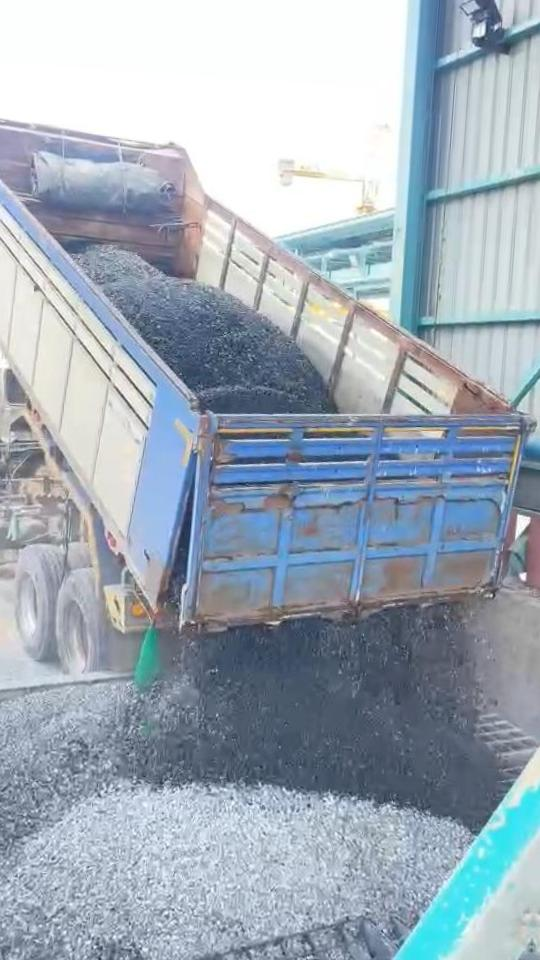gravel: (0, 626, 494, 960), (73, 245, 334, 413)
